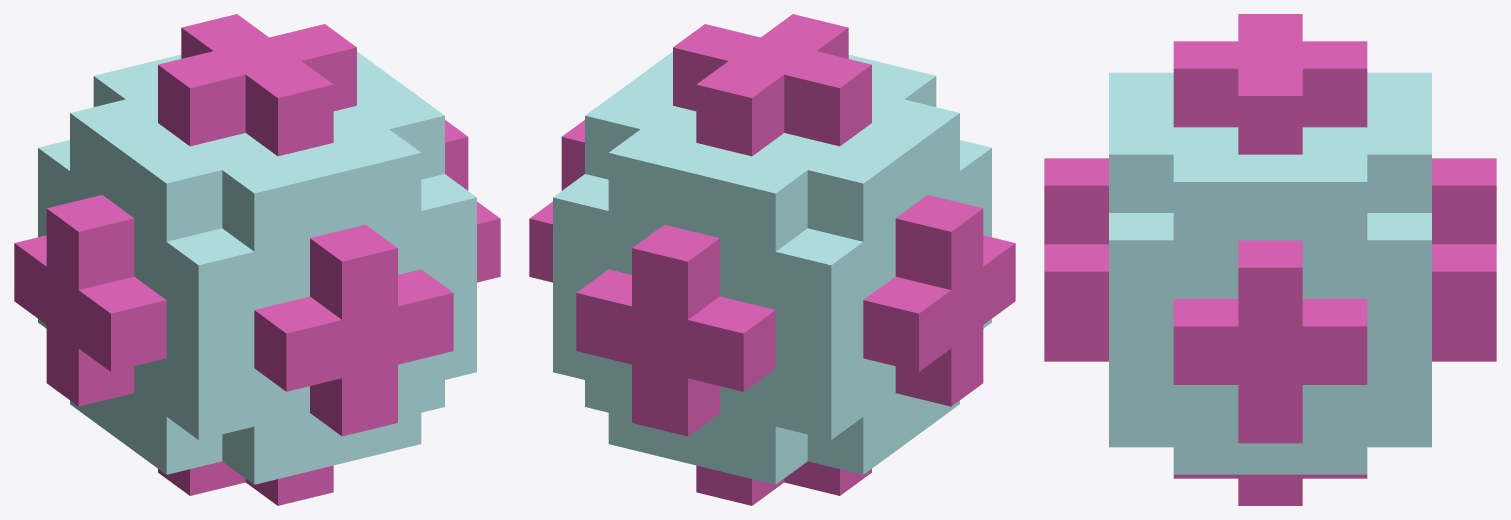
File: hpplus.dae
3 renders of one model, left to right at view 1: azimuth 30°, elevation 25°; view 2: azimuth 150°, elevation 25°; view 3: azimuth 270°, elevation 25°, orthographic.
Parts seen in each view (by area): view 1: hpplus; view 2: hpplus; view 3: hpplus.
Part boxes in pixels (bbox=[...]): hpplus: bbox=[14, 14, 500, 505]; hpplus: bbox=[529, 14, 1015, 505]; hpplus: bbox=[1044, 14, 1496, 505].
Bounding box in the file's own units: 7 × 7 × 7.
1 material, 1 textured.
